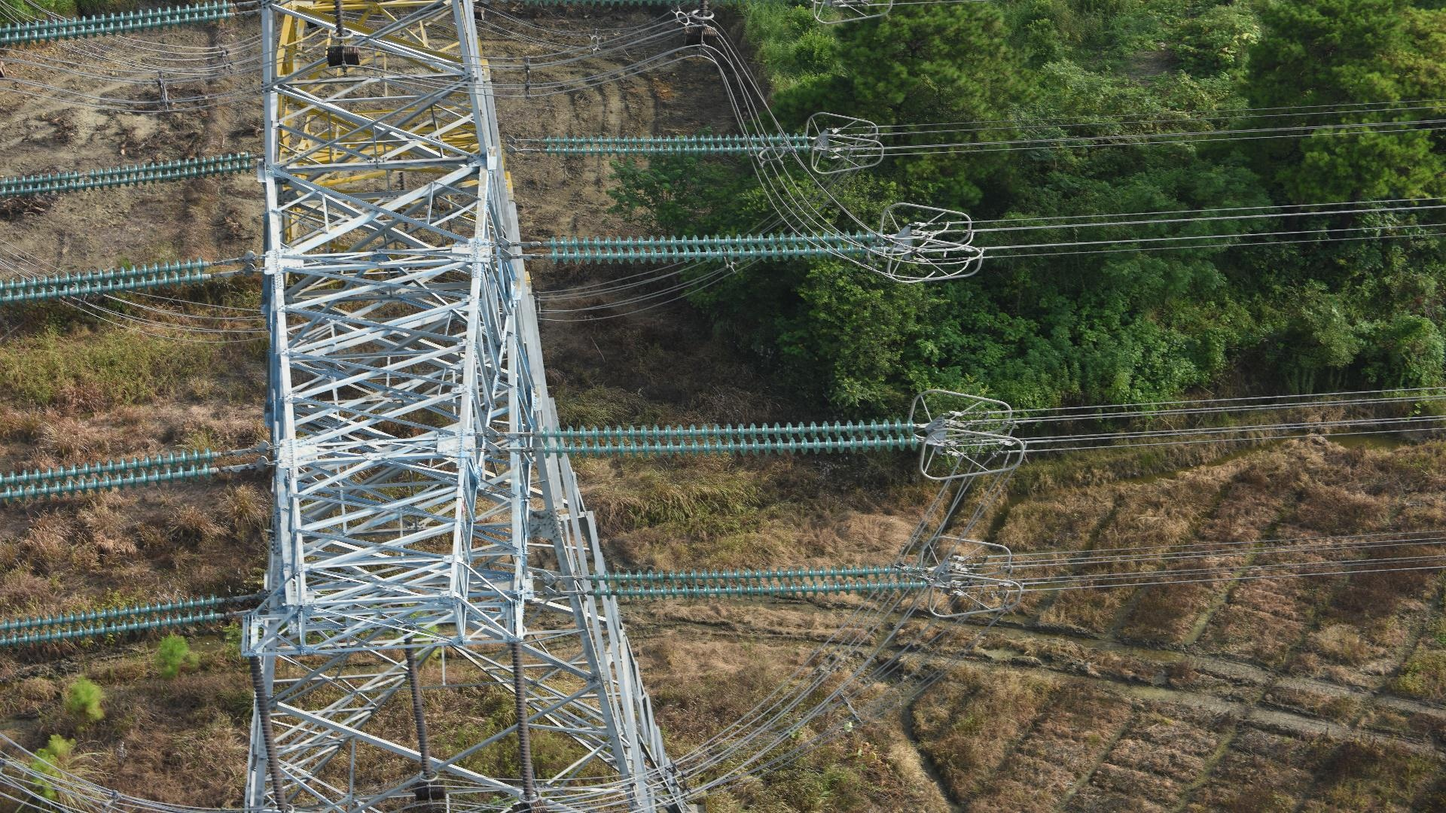insulator: (538, 417, 921, 462), (587, 561, 930, 603), (547, 227, 877, 267), (1, 591, 221, 651), (1, 445, 217, 506), (1, 148, 253, 200), (1, 254, 207, 307), (1, 1, 232, 48), (541, 129, 812, 159), (247, 655, 290, 811), (399, 631, 435, 778), (508, 640, 536, 799), (332, 1, 348, 35), (395, 154, 407, 191)
